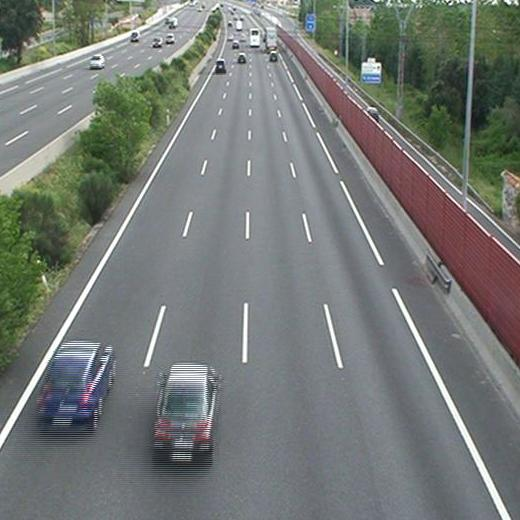bus: (250, 29, 260, 48)
car: (40, 342, 113, 419), (155, 366, 215, 457), (215, 60, 226, 71), (268, 51, 278, 61), (237, 53, 247, 62), (231, 41, 240, 50)
truck: (266, 27, 277, 51)
